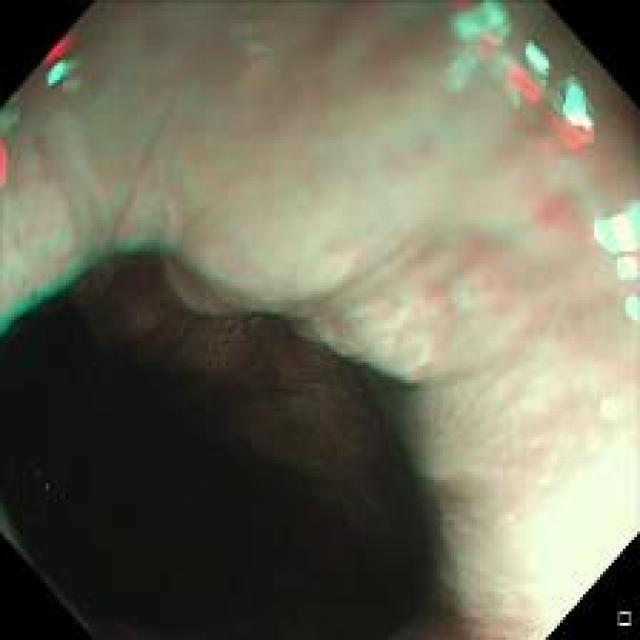blur: (4, 2, 634, 321)
color misalignment: (450, 9, 589, 178), (296, 291, 428, 390), (164, 249, 302, 329), (2, 248, 95, 336), (95, 226, 201, 278), (30, 20, 90, 108), (599, 196, 635, 299), (229, 22, 271, 90), (4, 102, 18, 202)
contrast: (14, 256, 454, 620)
saturation: (519, 435, 635, 635)
